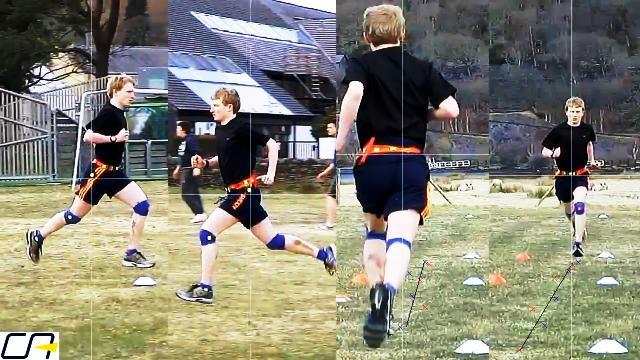berlari: (340, 0, 458, 352), (176, 78, 338, 310), (18, 71, 156, 285), (536, 88, 616, 264)
